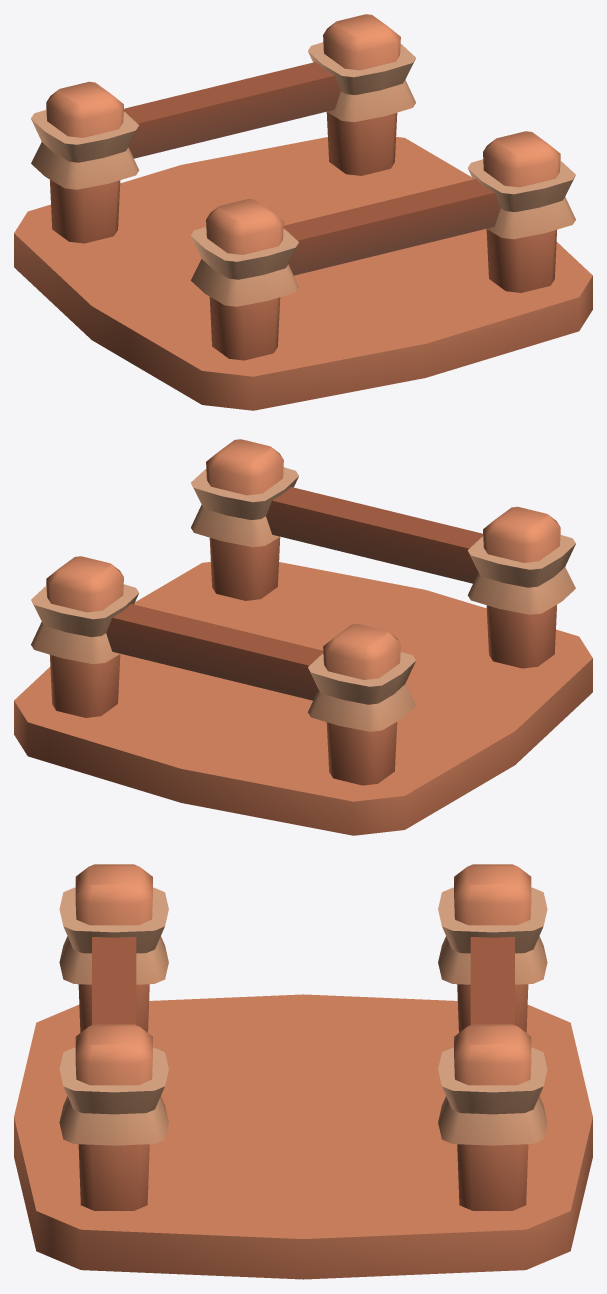
Rendered from forest_building-platform.obj.
3 renders of one model, top to bottom at view 1: azimuth 30°, elevation 25°; view 2: azimuth 150°, elevation 25°; view 3: azimuth 270°, elevation 25°, orthographic. The views are drawn at different scales.
Visible parts, largest first — view 1: building-platform; view 2: building-platform; view 3: building-platform.
Part boxes in pixels (<box>): building-platform: <box>14,14,592,410</box>; building-platform: <box>14,439,592,835</box>; building-platform: <box>14,864,592,1279</box>.
Bounding box in the file's own units: 1.3 × 0.5 × 1.3.
Materials: 1 (1 with a texture image).
